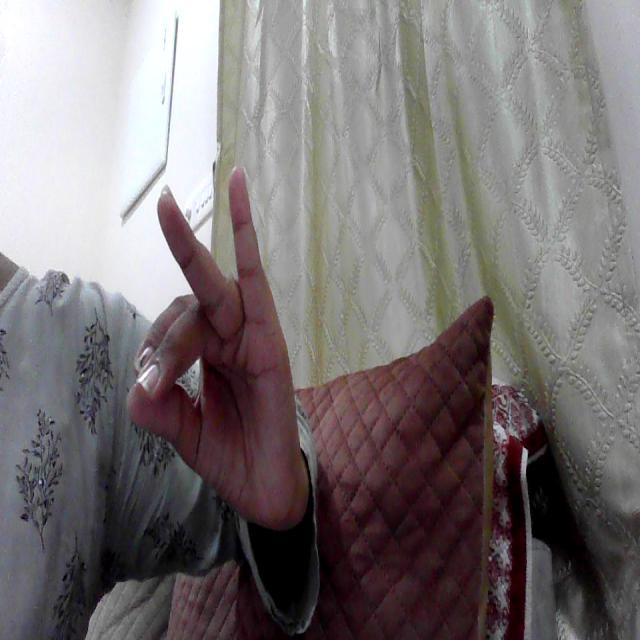Katakamukha: (123, 169, 330, 558)
